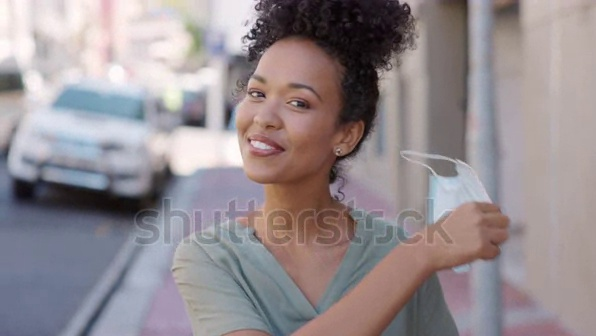No Mask: (214, 120, 330, 190)
